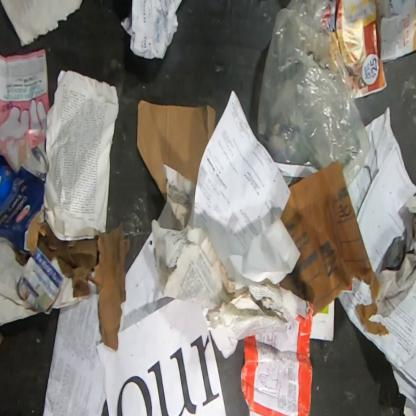cardboard: (240, 300, 315, 415), (137, 99, 216, 203), (0, 154, 45, 254)
soft_plastic: (258, 0, 370, 189)
